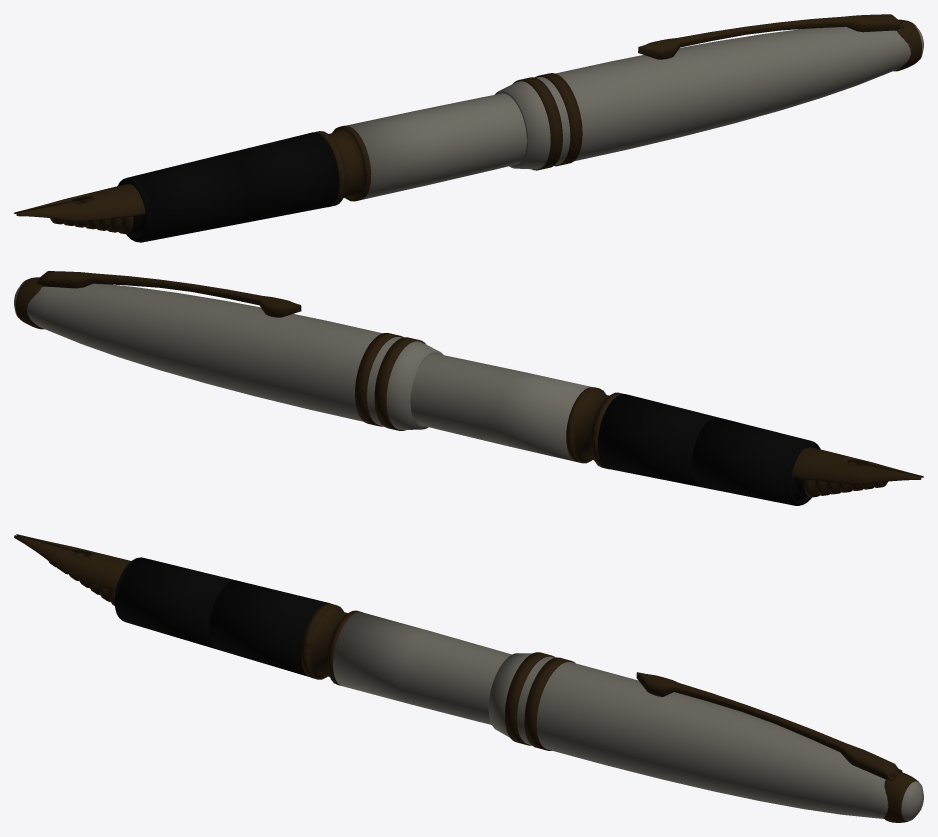
File: pen_6.obj
The picture shows the model from 3 angles, top to bottom: view 1: azimuth 30°, elevation 25°; view 2: azimuth 150°, elevation 25°; view 3: azimuth 330°, elevation 25°; orthographic projection.
Size of the model in its own units: 6.87 by 0.698 by 0.6113.
